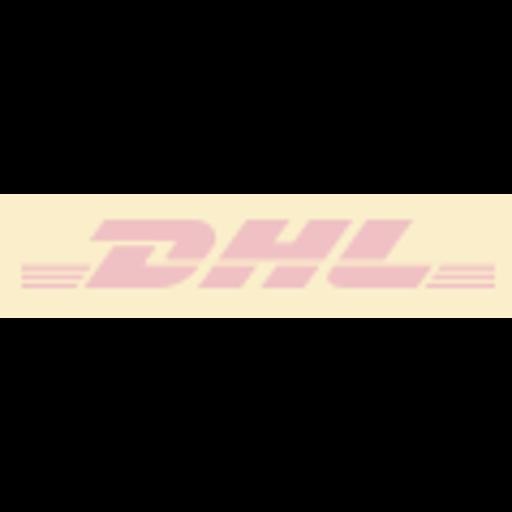DHL: (0, 194, 512, 318)
